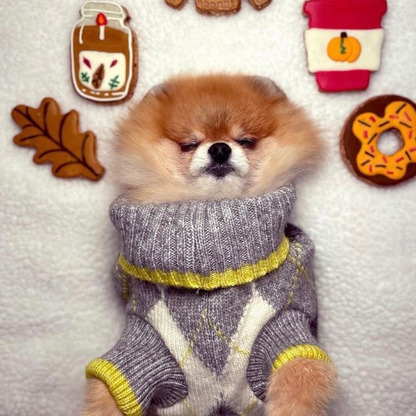Pomeranian: (88, 67, 336, 408)
